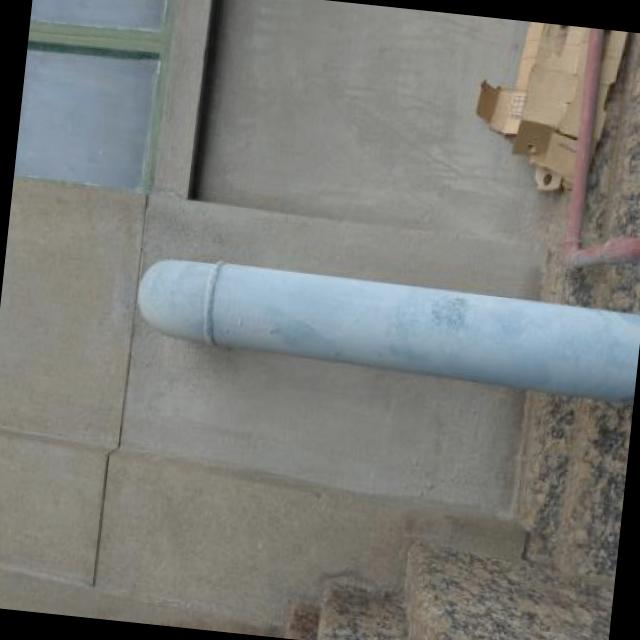gas: (135, 258, 640, 403), (565, 29, 640, 267)
